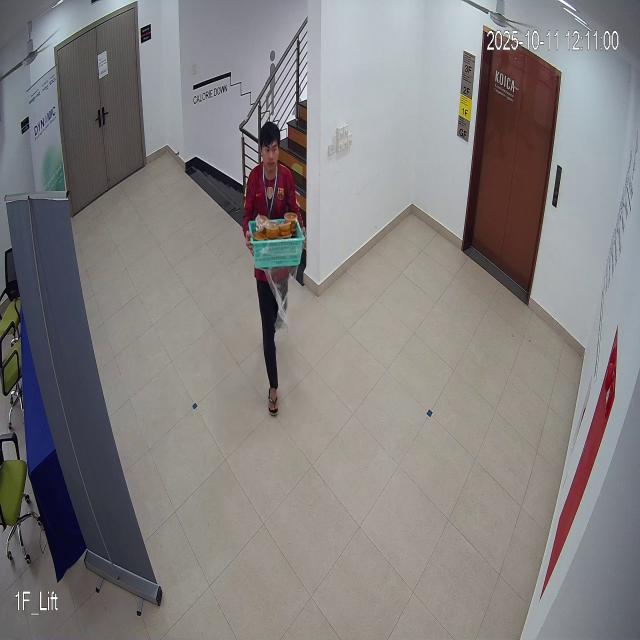face: (258, 116, 280, 187)
